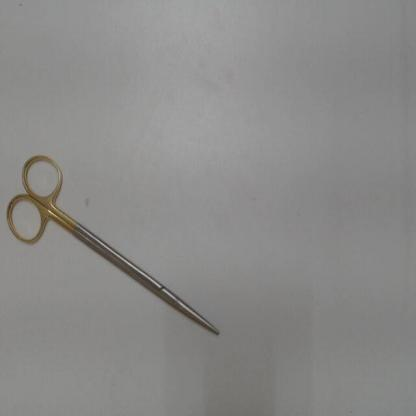7 Metzenbaum Scissors: (3, 146, 226, 342)
